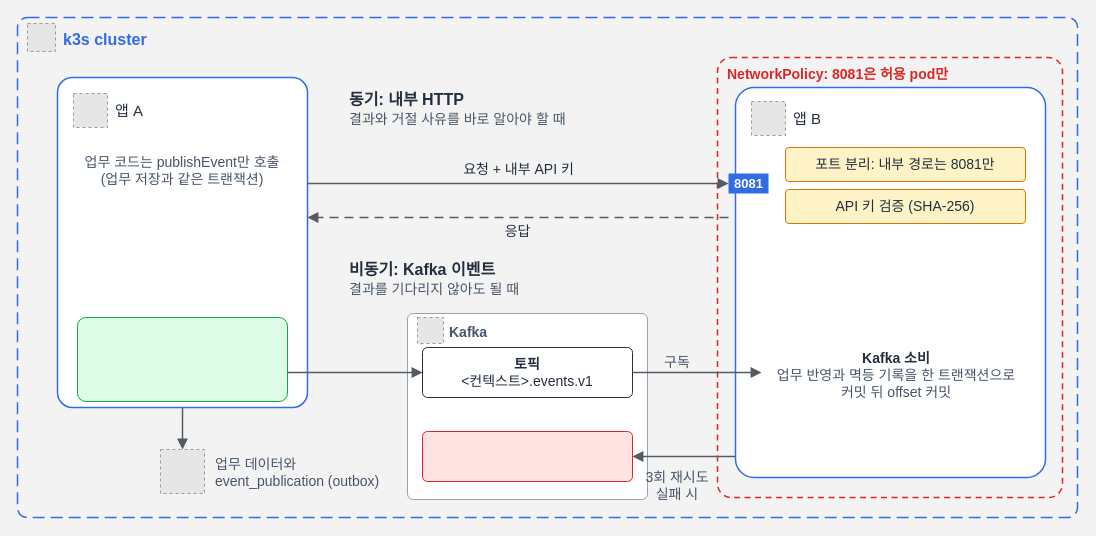
Some shapes in this 1096 by 536 pixel diagram are drawn without their labels. Grey dashed boxes stand in for pictures. Here are the shapes that lost their labels. From the top down, the centre of each, then its label:
At point (182, 359): "Transactional Outbox 커밋 뒤 비동기로 Kafka 발행 미완료 건은 매분 재발행".
At point (527, 456): "DLT 토픽 <토픽>.<그룹>.DLT".
